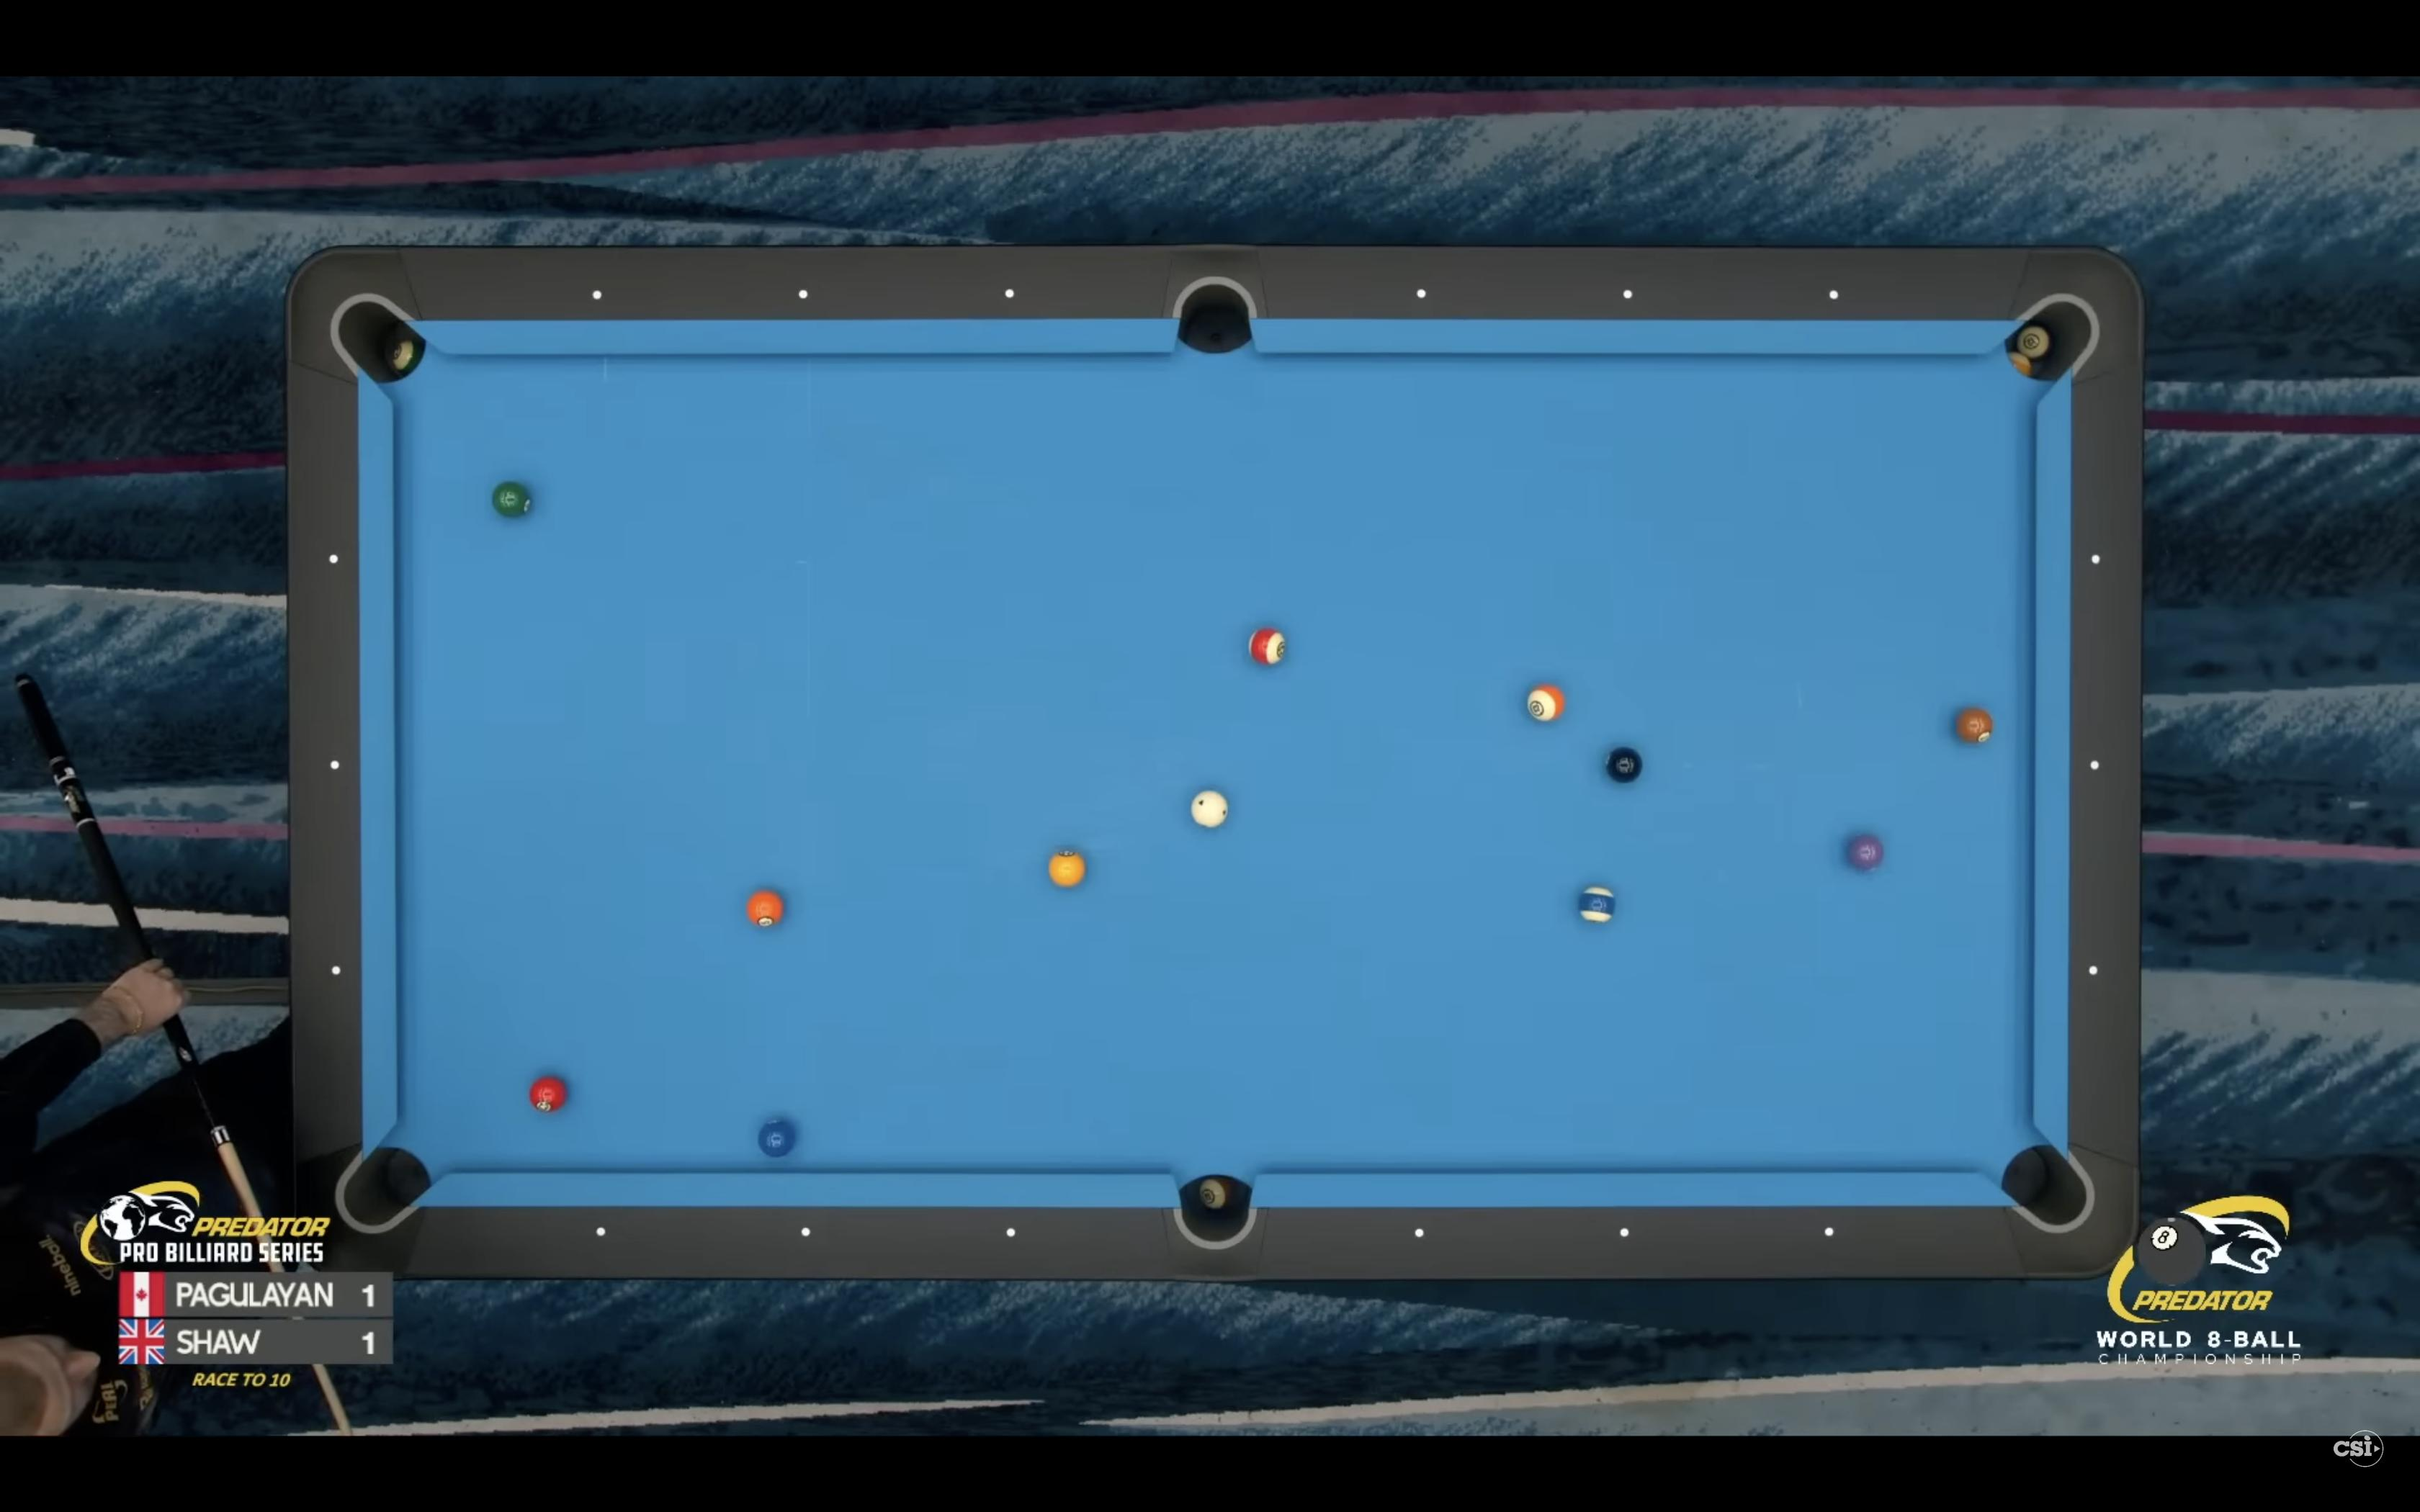Black: (1606, 746, 1645, 786)
Cue: (1188, 789, 1230, 829)
Dot: (2091, 552, 2103, 566), (1622, 287, 1634, 301), (329, 759, 341, 772), (1619, 1226, 1631, 1239), (2087, 965, 2099, 977), (591, 289, 603, 301), (329, 965, 343, 975), (2089, 758, 2099, 772), (1004, 287, 1017, 298), (328, 554, 340, 564), (800, 1226, 812, 1237), (596, 1226, 606, 1237), (1824, 1226, 1835, 1237), (1829, 289, 1840, 300), (1007, 1226, 1016, 1239), (1415, 1228, 1423, 1239), (1416, 289, 1425, 298), (800, 289, 808, 298)
Solid: (756, 1117, 800, 1160), (1047, 848, 1089, 890), (491, 479, 533, 519), (1955, 704, 1995, 746), (1845, 833, 1885, 873), (528, 1075, 568, 1113), (747, 888, 784, 927)
Striped: (1246, 624, 1289, 667), (1524, 679, 1566, 725), (1575, 883, 1617, 928)
